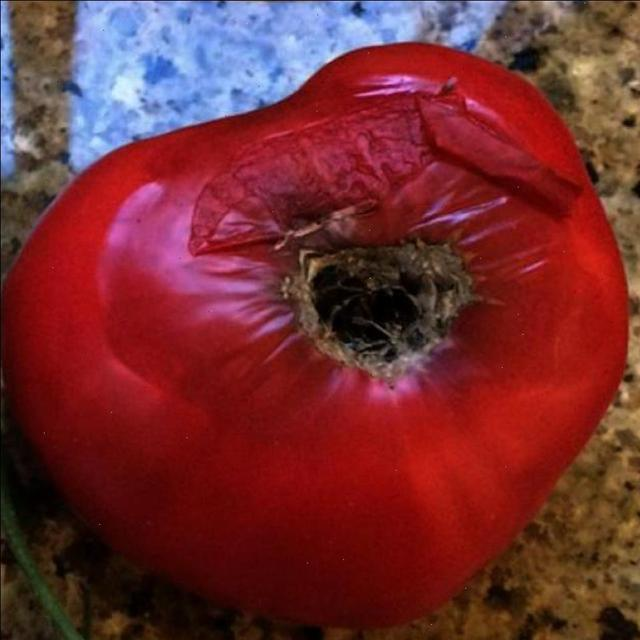Blossom End Rot Fruit: (180, 127, 336, 262)
